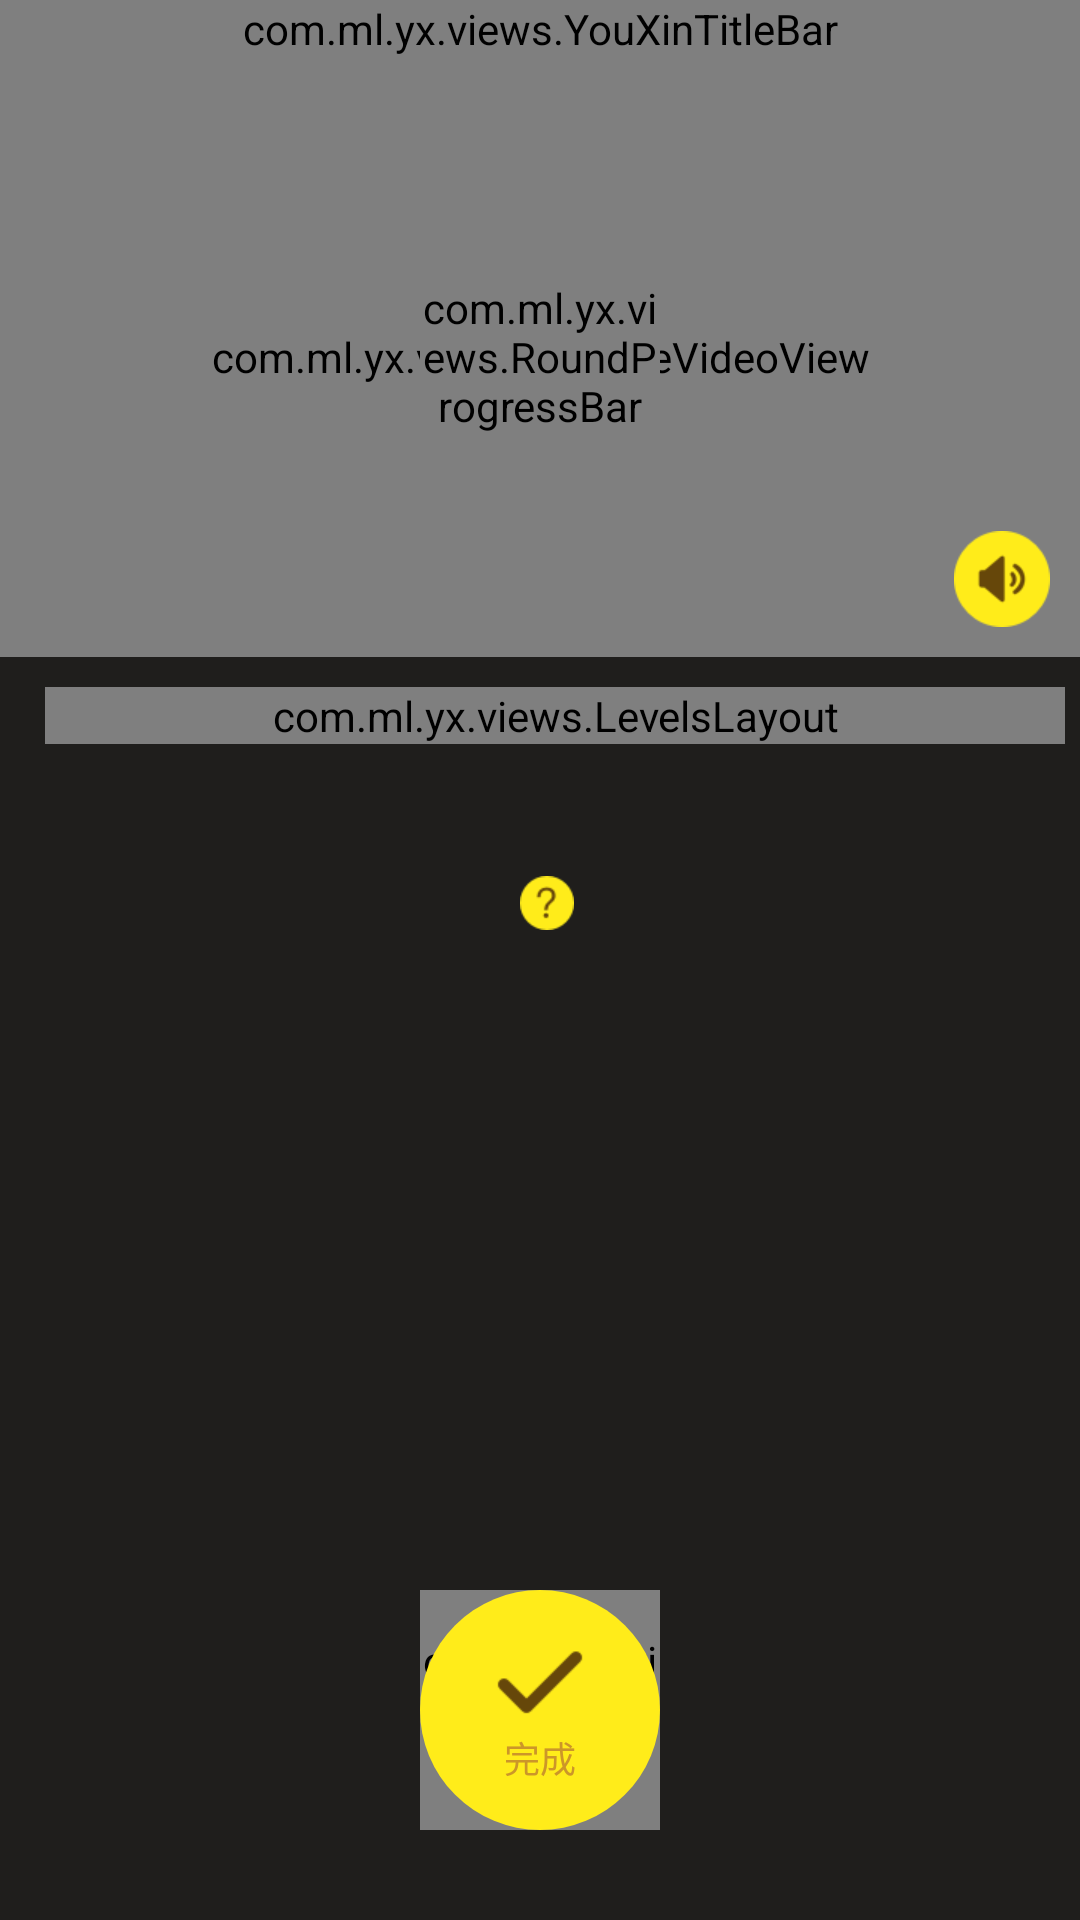

Named icons in this screenshot (1080w x 1920h) and their centers, point (x, y):
level video wenhao: point (547, 903)
music on: point (1002, 579)
